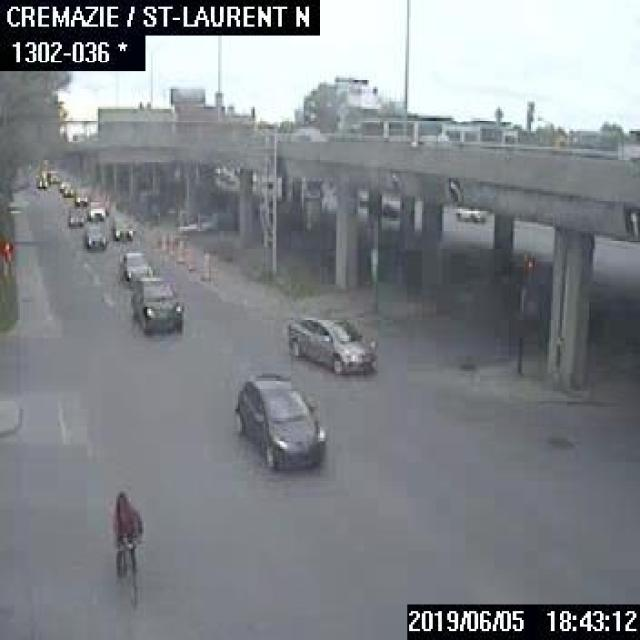construction: (201, 251, 210, 281), (176, 234, 185, 263)
cyclist: (109, 487, 144, 600)
vehicle: (229, 369, 329, 473), (284, 311, 376, 376), (130, 273, 186, 333), (116, 250, 150, 285), (83, 225, 110, 251), (109, 213, 136, 239), (66, 201, 88, 224), (454, 206, 485, 222), (86, 200, 108, 219), (378, 198, 398, 216), (74, 188, 88, 203), (46, 170, 58, 183), (36, 173, 46, 187), (62, 183, 72, 195), (58, 180, 68, 190)
